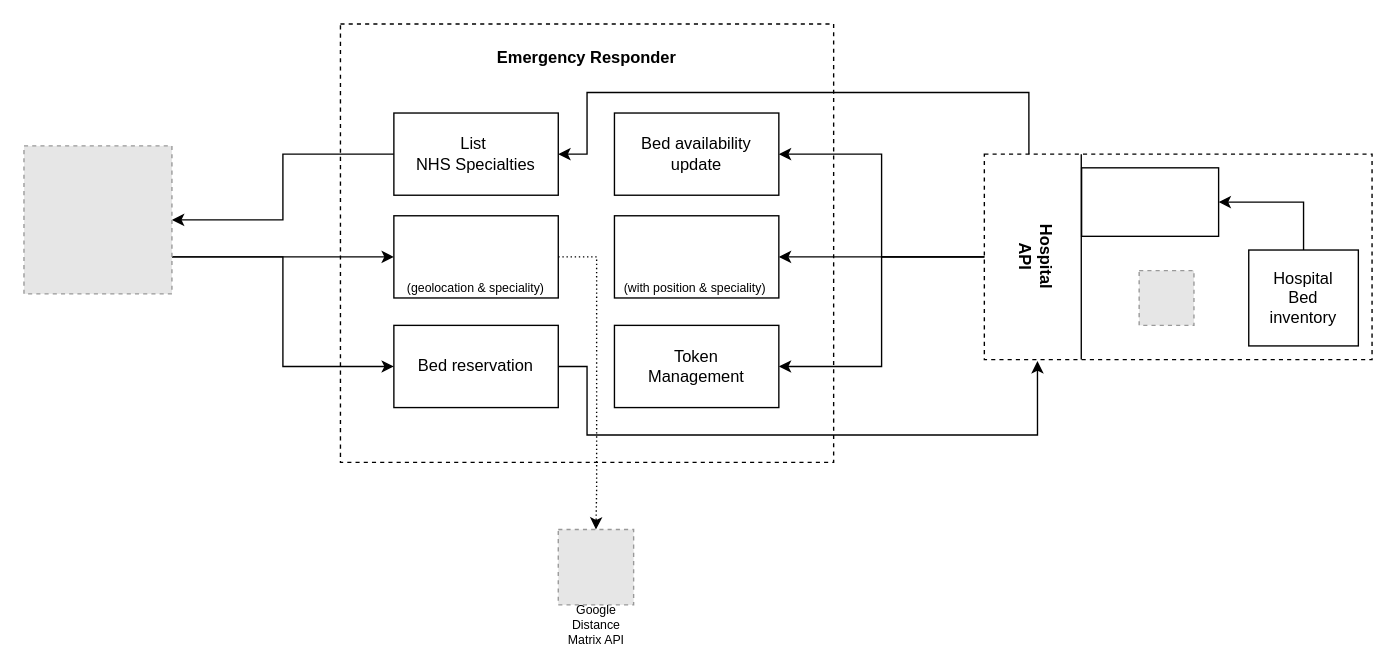
Some shapes in this 1396 by 671 pixel diagram are drawn without their labels. Grey dashed boxes stand in for pictures. The box of each missing label's shape, as (x1, y1, x2, y2) in pixels:
Bed availability request: (393, 214, 558, 298)
Hospital + specialization: (1080, 166, 1219, 236)
Hospital Management: (613, 214, 779, 298)
